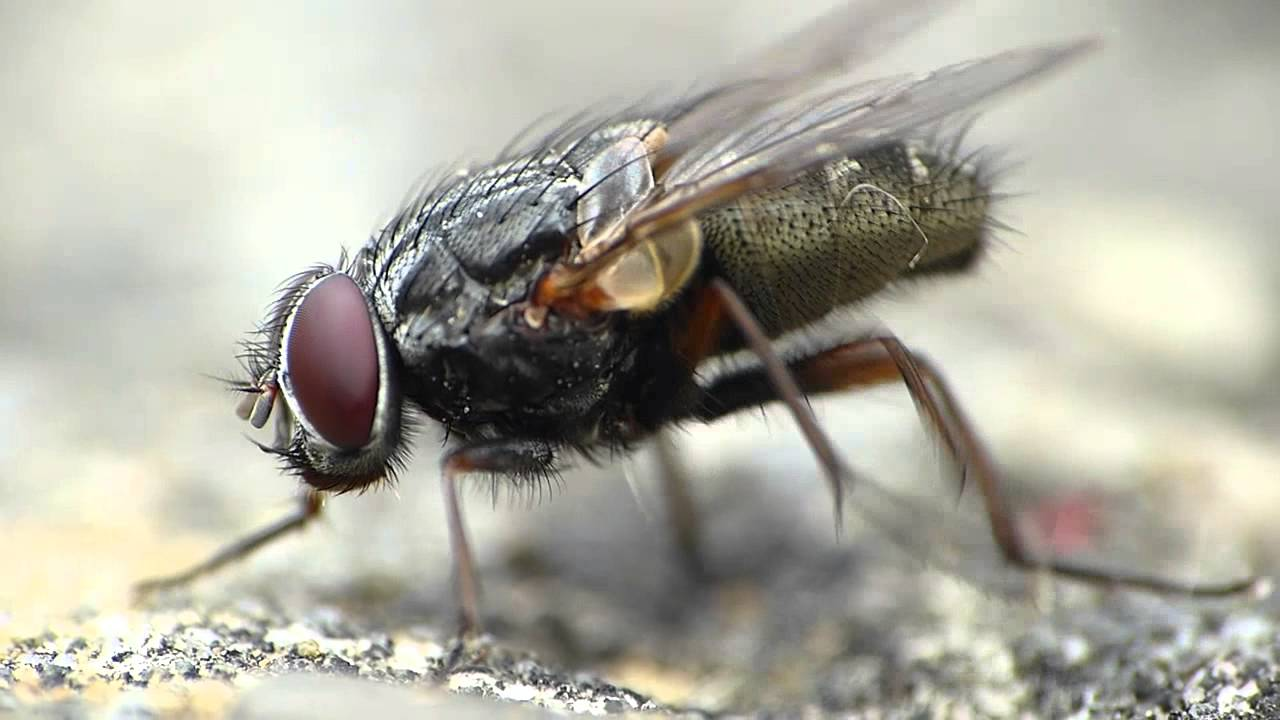house fly: (215, 1, 1259, 612)
